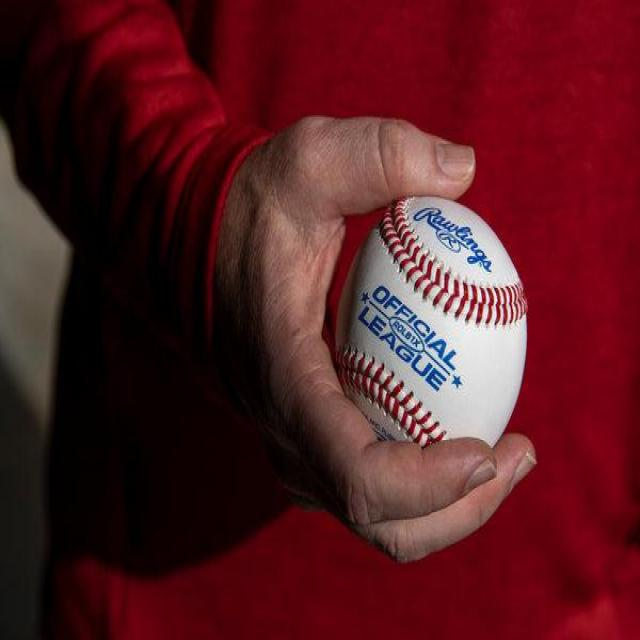baseball: (336, 197, 528, 445)
